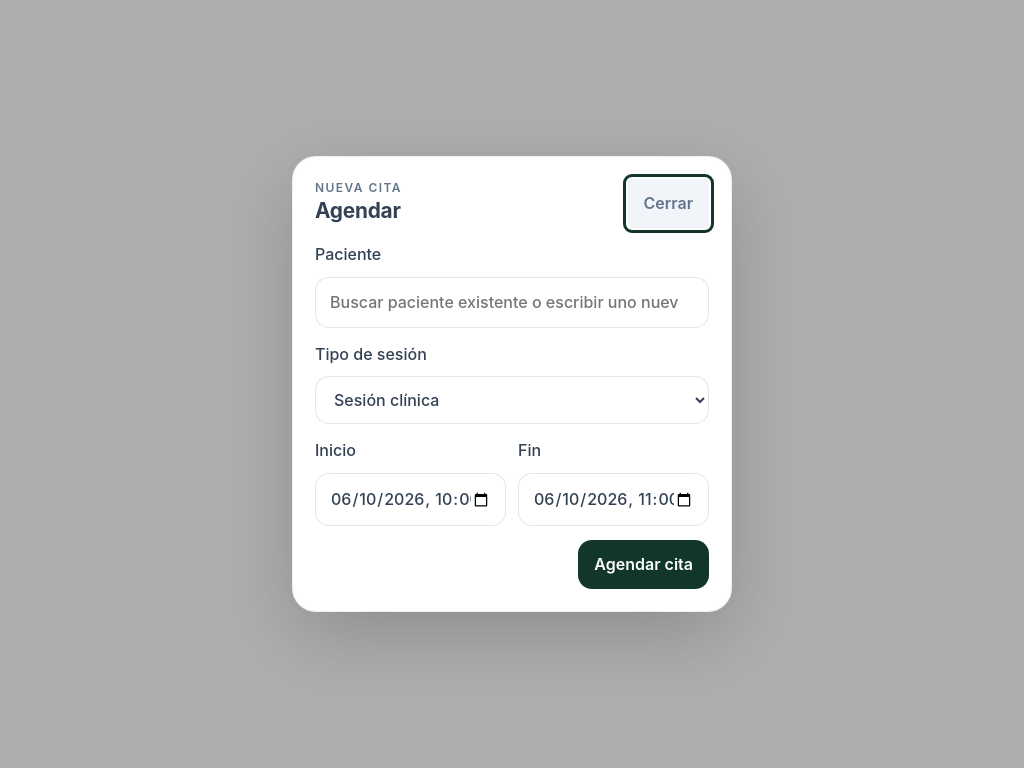
AppointmentCreateModal › muestra el error si addAppointment falla
Type "Ana" into the search field at {"x": 512, "y": 302}, box [315,277,709,328]
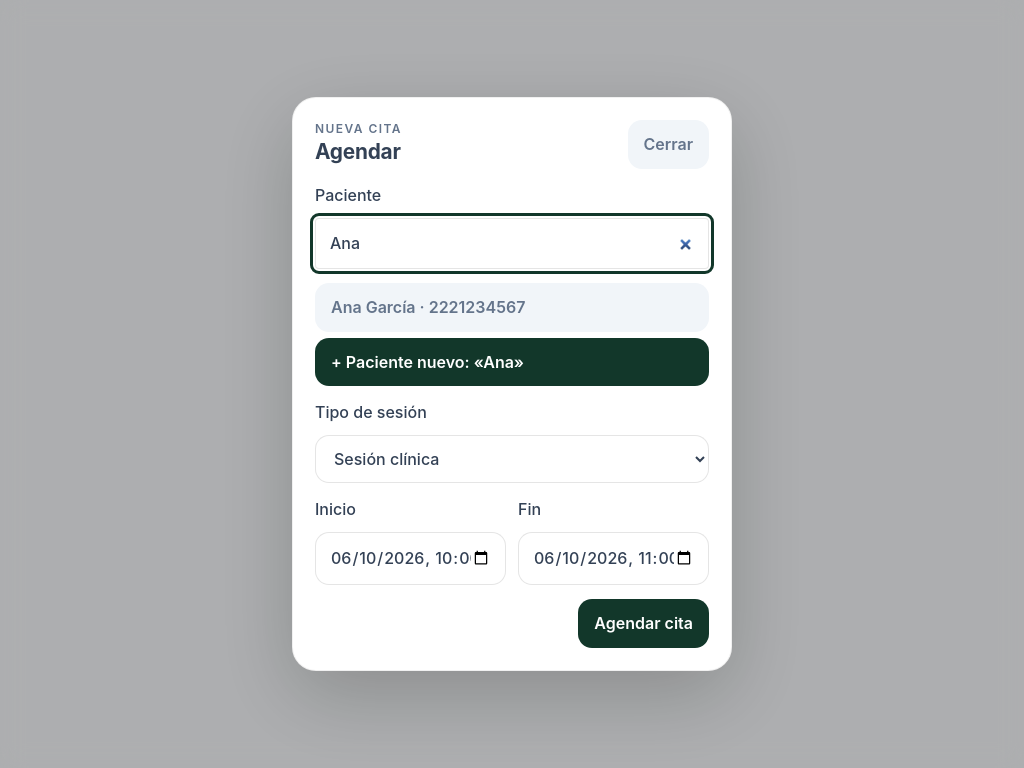
Click the button "Ana García · 2221234567" at {"x": 512, "y": 307}, box [315,283,709,332]
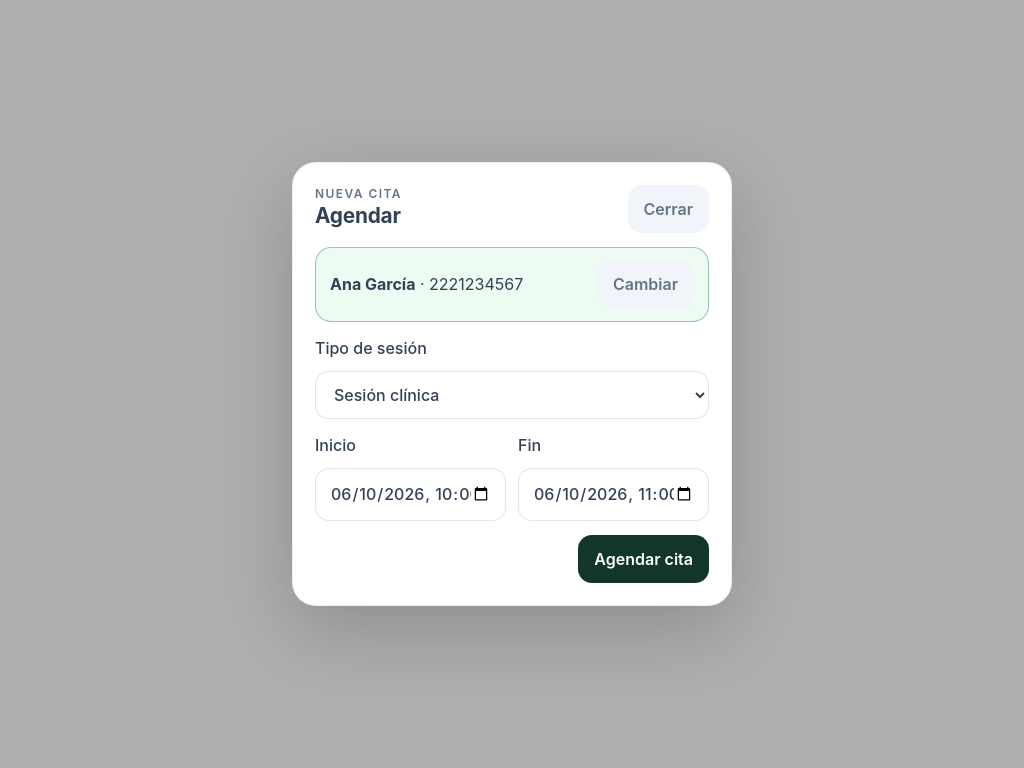
Click the button "Agendar cita" at {"x": 644, "y": 559}, box [578,535,709,583]
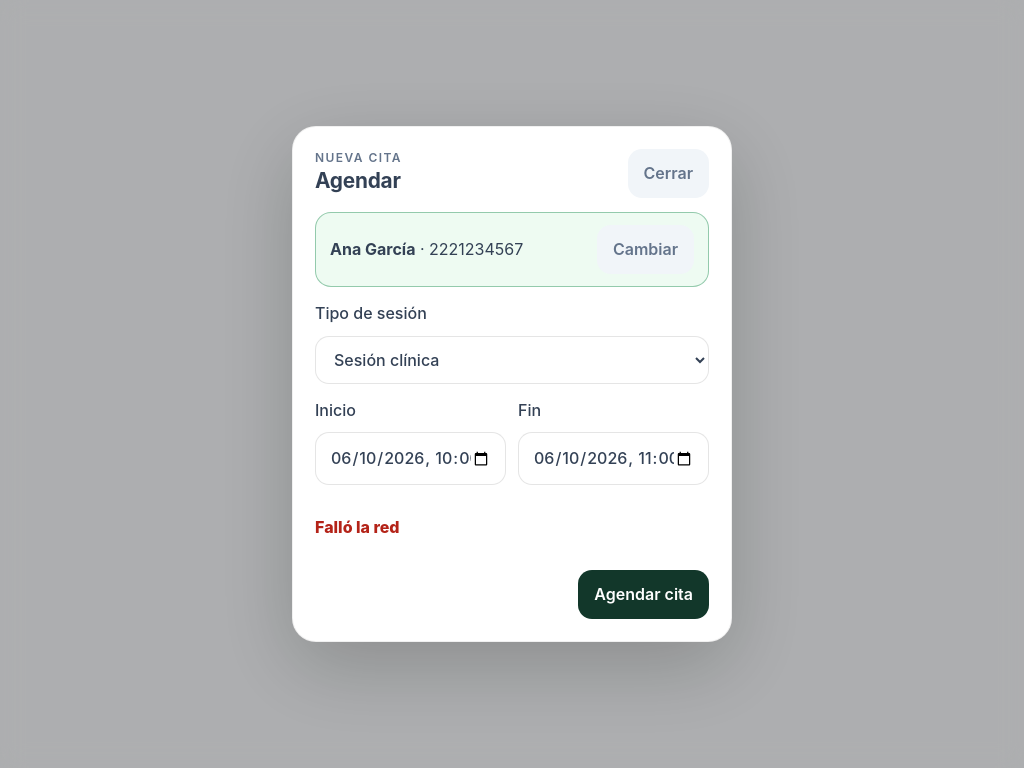
Result: the message reads "Falló la red" at [315,517,400,537]
